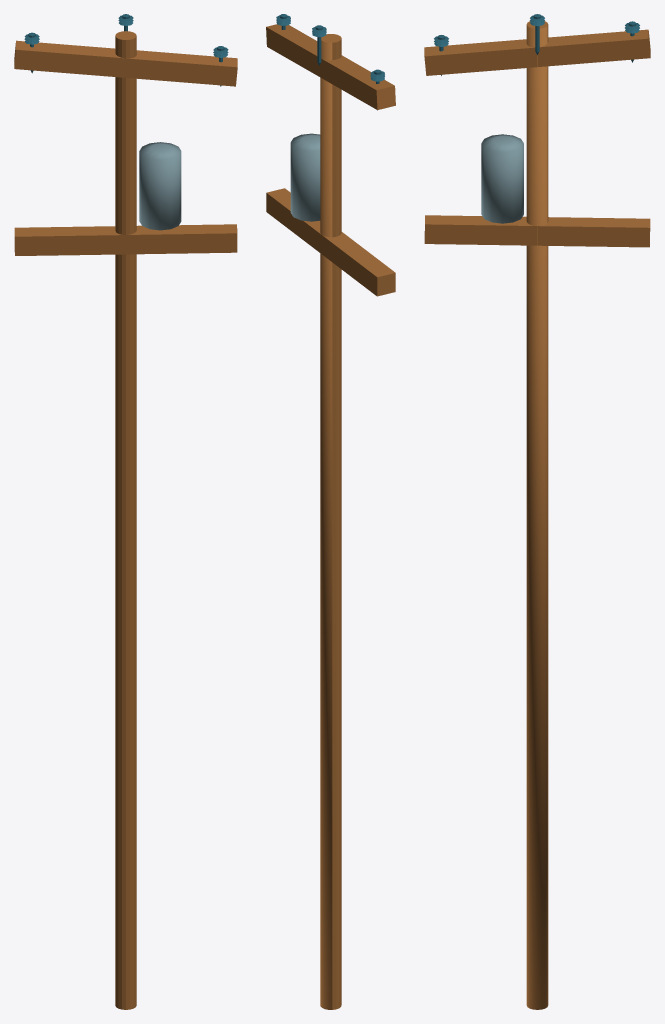
The model's file is SM_ElectricalPole.fbx.
The picture shows the model from 3 angles, left to right: view 1: azimuth 90°, elevation 25°; view 2: azimuth 210°, elevation 25°; view 3: azimuth 270°, elevation 25°; orthographic projection.
Parts seen in each view (by area): view 1: Cylinder; view 2: Cylinder; view 3: Cylinder.
Part boxes in pixels (box(x1,y1,x2,y2)): Cylinder: box(14, 14, 237, 1009); Cylinder: box(266, 14, 395, 1009); Cylinder: box(424, 14, 650, 1009).
Size of the model in its own units: 26.34 by 682 by 140.
